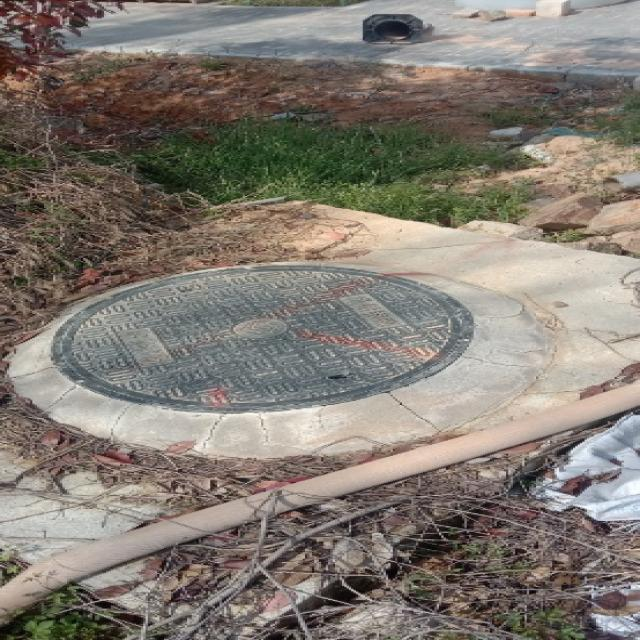Good: (36, 260, 514, 424)
